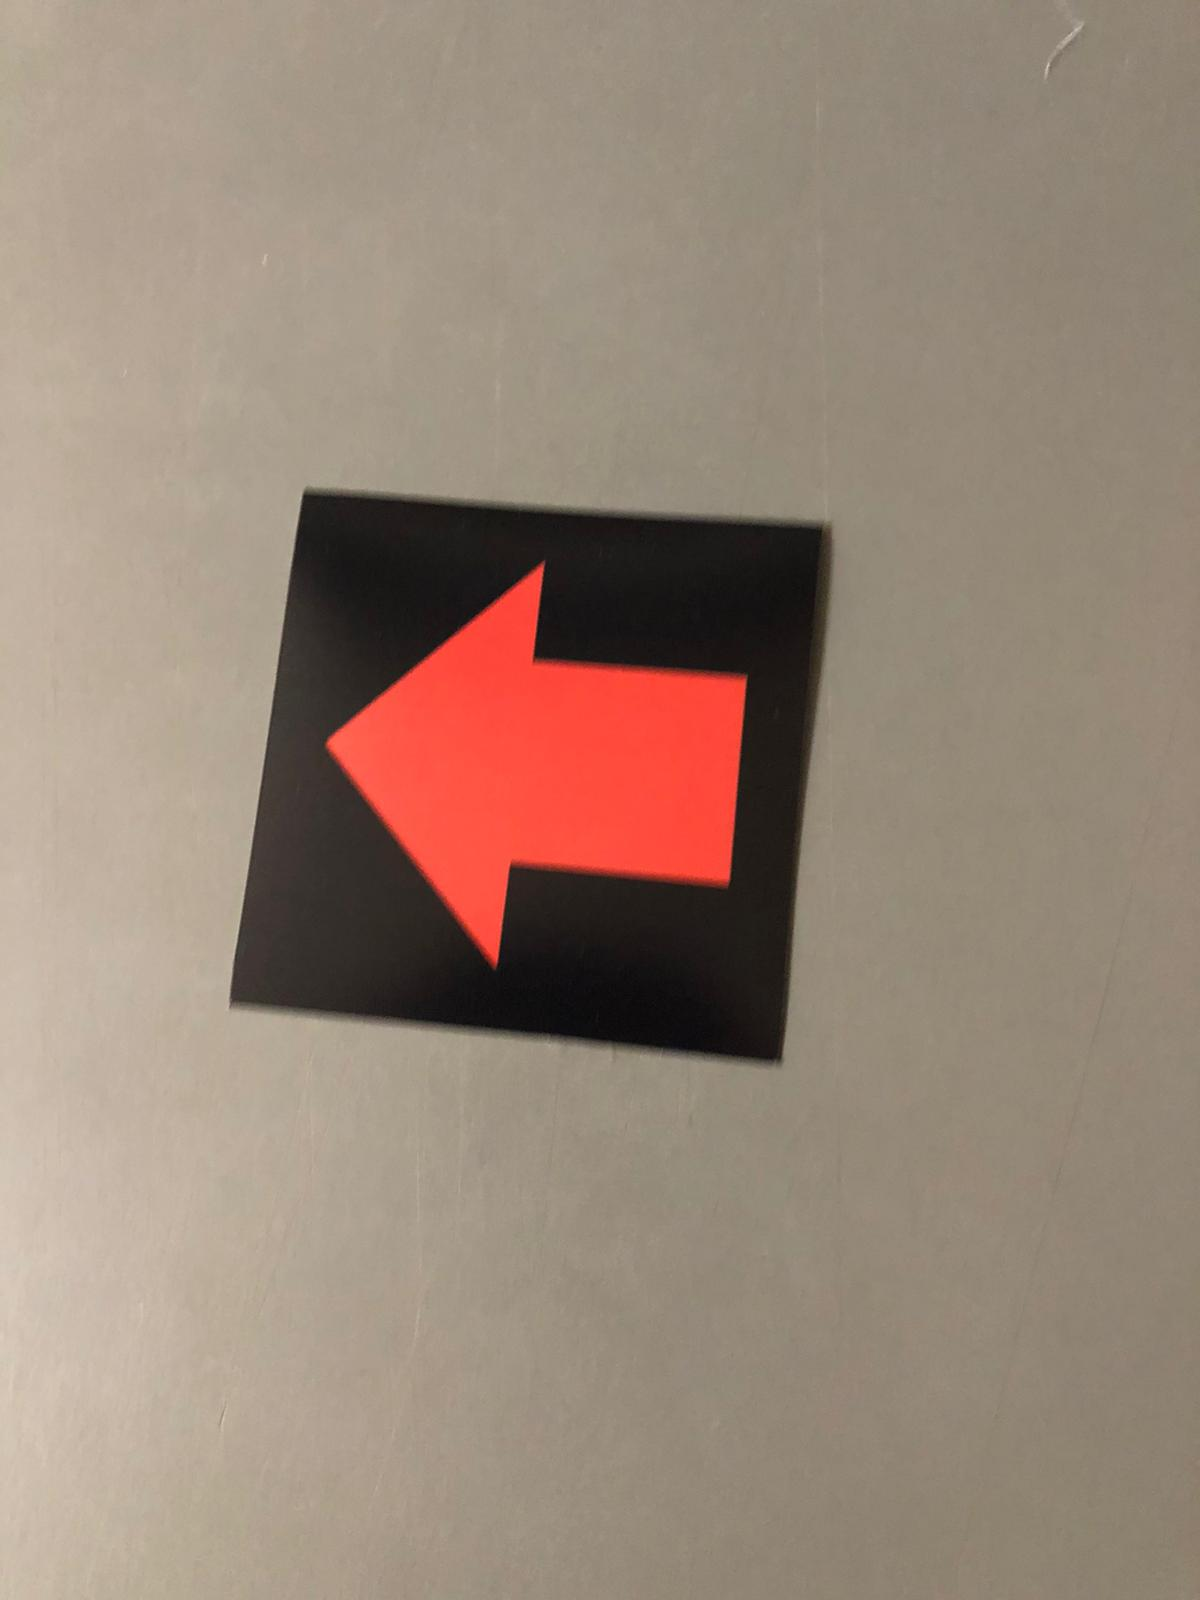Left Arrow: (303, 511, 783, 1026)
